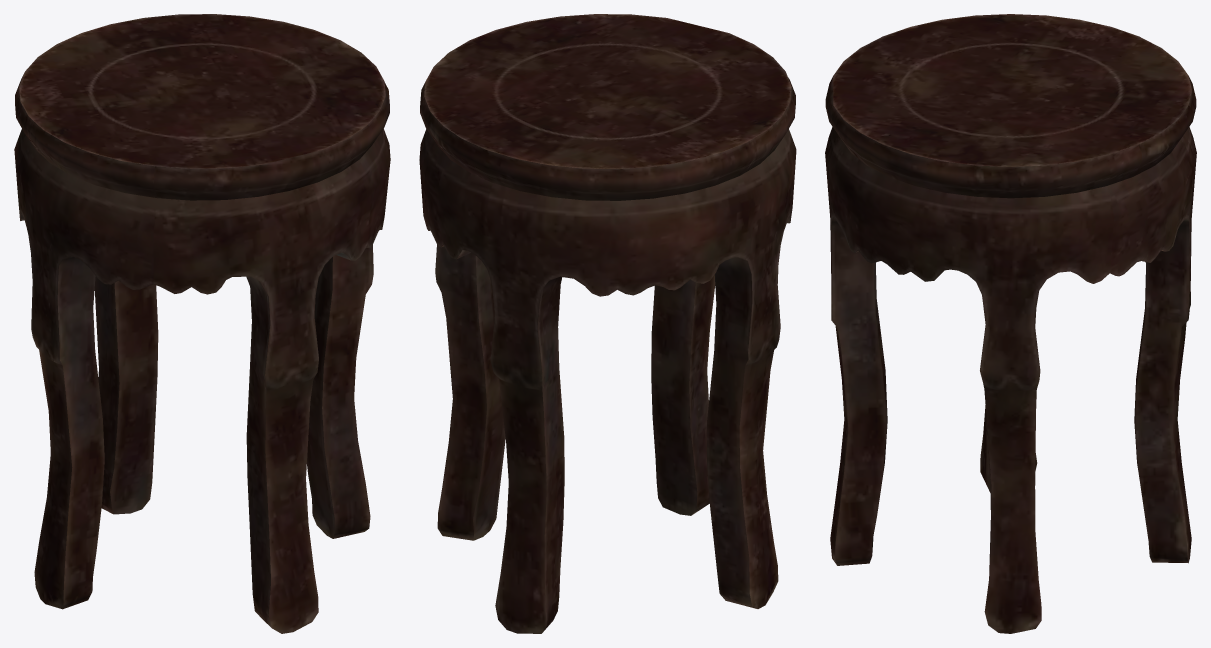
File: ph_WoodenTable_02.glb
The picture shows the model from 3 angles, left to right: view 1: azimuth 30°, elevation 25°; view 2: azimuth 150°, elevation 25°; view 3: azimuth 270°, elevation 25°; orthographic projection.
Parts seen in each view (by area): view 1: WoodenTable_02; view 2: WoodenTable_02; view 3: WoodenTable_02.
Part boxes in pixels (x1,y1,x2,y2): WoodenTable_02: (14, 14, 390, 633); WoodenTable_02: (419, 14, 796, 633); WoodenTable_02: (825, 14, 1196, 633).
Bounding box in the file's own units: 0.3007 × 0.4177 × 0.3007.
Materials: 1 (1 with a texture image).
